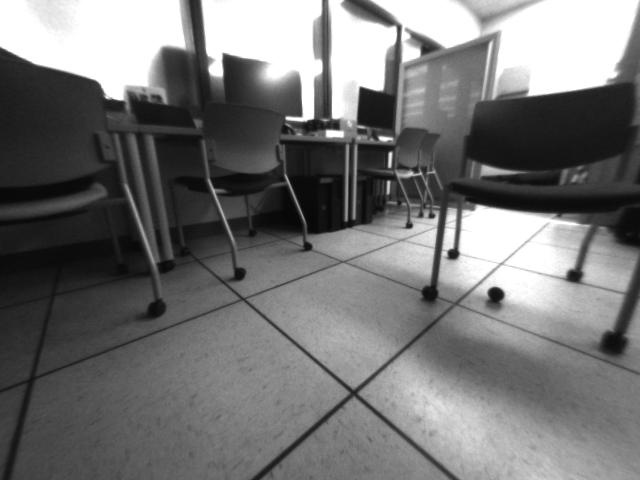dogtoy: (483, 281, 511, 309)
